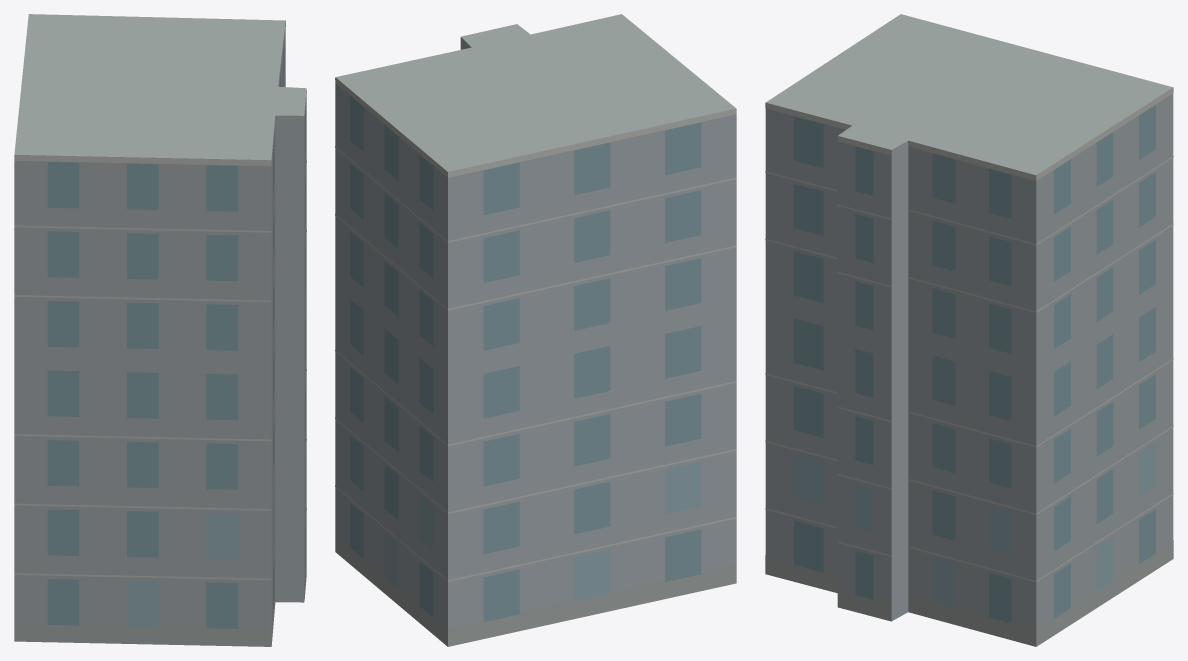
The model's file is survey-upis-32741063.glb.
The picture shows the model from 3 angles, left to right: view 1: azimuth 30°, elevation 25°; view 2: azimuth 150°, elevation 25°; view 3: azimuth 270°, elevation 25°; orthographic projection. The views are drawn at different scales.
Parts seen in each view (by area): view 1: survey-upis-32741063.tmp; view 2: survey-upis-32741063.tmp; view 3: survey-upis-32741063.tmp.
Boxes of the visible parts, x1,y1,x2,y2 form: survey-upis-32741063.tmp: (14, 14, 306, 646); survey-upis-32741063.tmp: (335, 14, 736, 646); survey-upis-32741063.tmp: (765, 14, 1173, 646).
Size of the model in its own units: 14.51 by 19.75 by 15.51.
